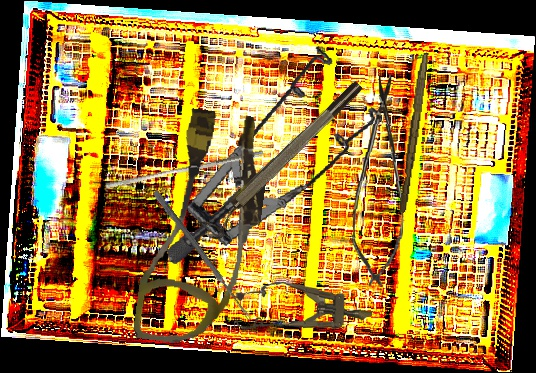Cannula: (132, 104, 275, 353)
Fixation Ring: (196, 77, 372, 245)
Micro Scissor: (350, 71, 409, 291)
Pusher: (104, 143, 265, 195)
Scalpel Handle: (398, 51, 429, 214)
Speculum: (134, 36, 402, 265), (233, 278, 375, 341)
Surgical Spoon: (151, 189, 254, 322)
